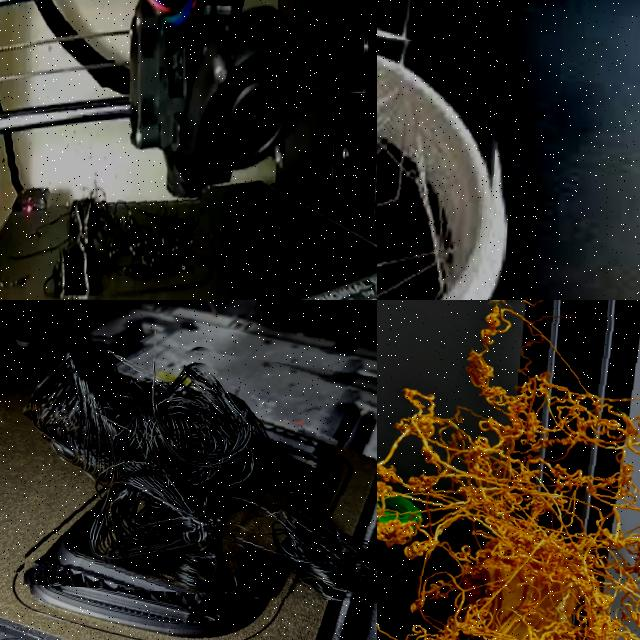spaghetti: (23, 326, 377, 605), (377, 300, 640, 640), (377, 0, 506, 300), (86, 168, 203, 280)
